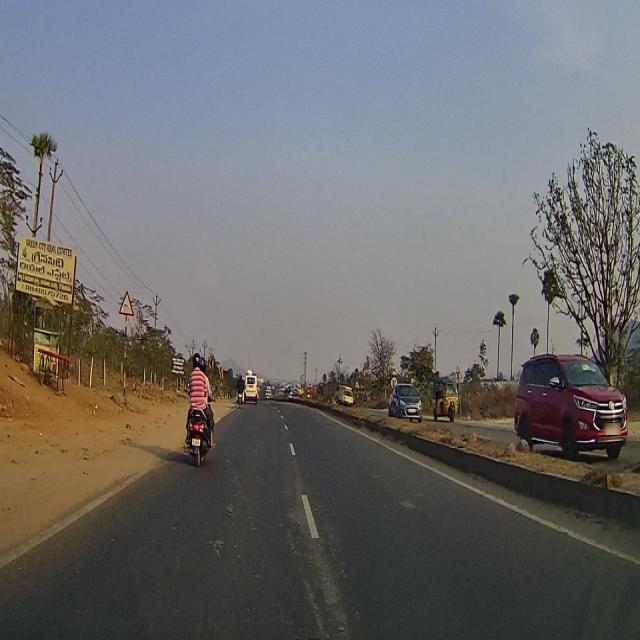left-hand-curve: (114, 278, 136, 323)
